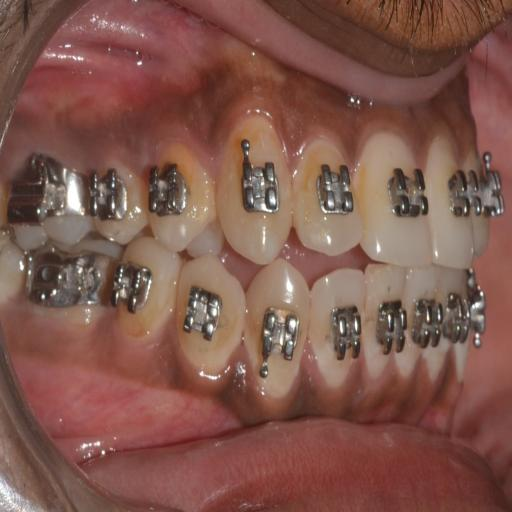correct_brace: (174, 248, 244, 387), (253, 298, 302, 385), (234, 132, 282, 220), (381, 159, 431, 229), (180, 278, 225, 344), (312, 161, 358, 224), (331, 301, 364, 369)
incorrect_brace: (293, 128, 365, 257), (309, 266, 366, 394)
